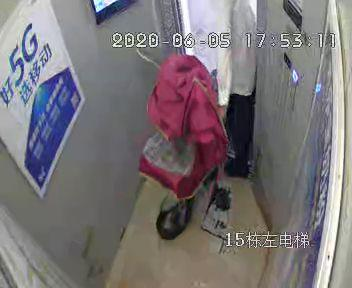Electric-bicycle: (137, 52, 227, 239)
